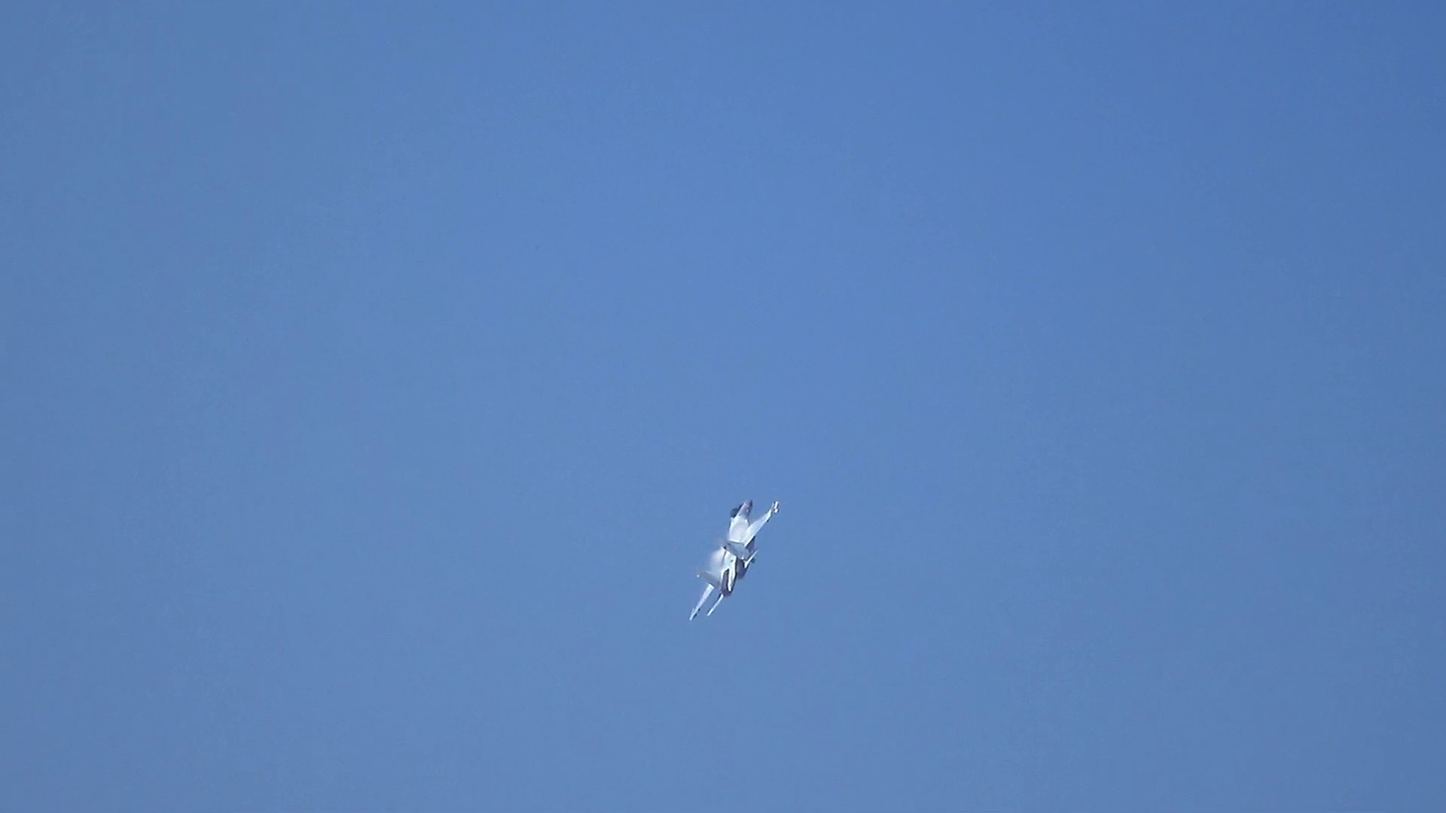Su35: (689, 499, 779, 621)
